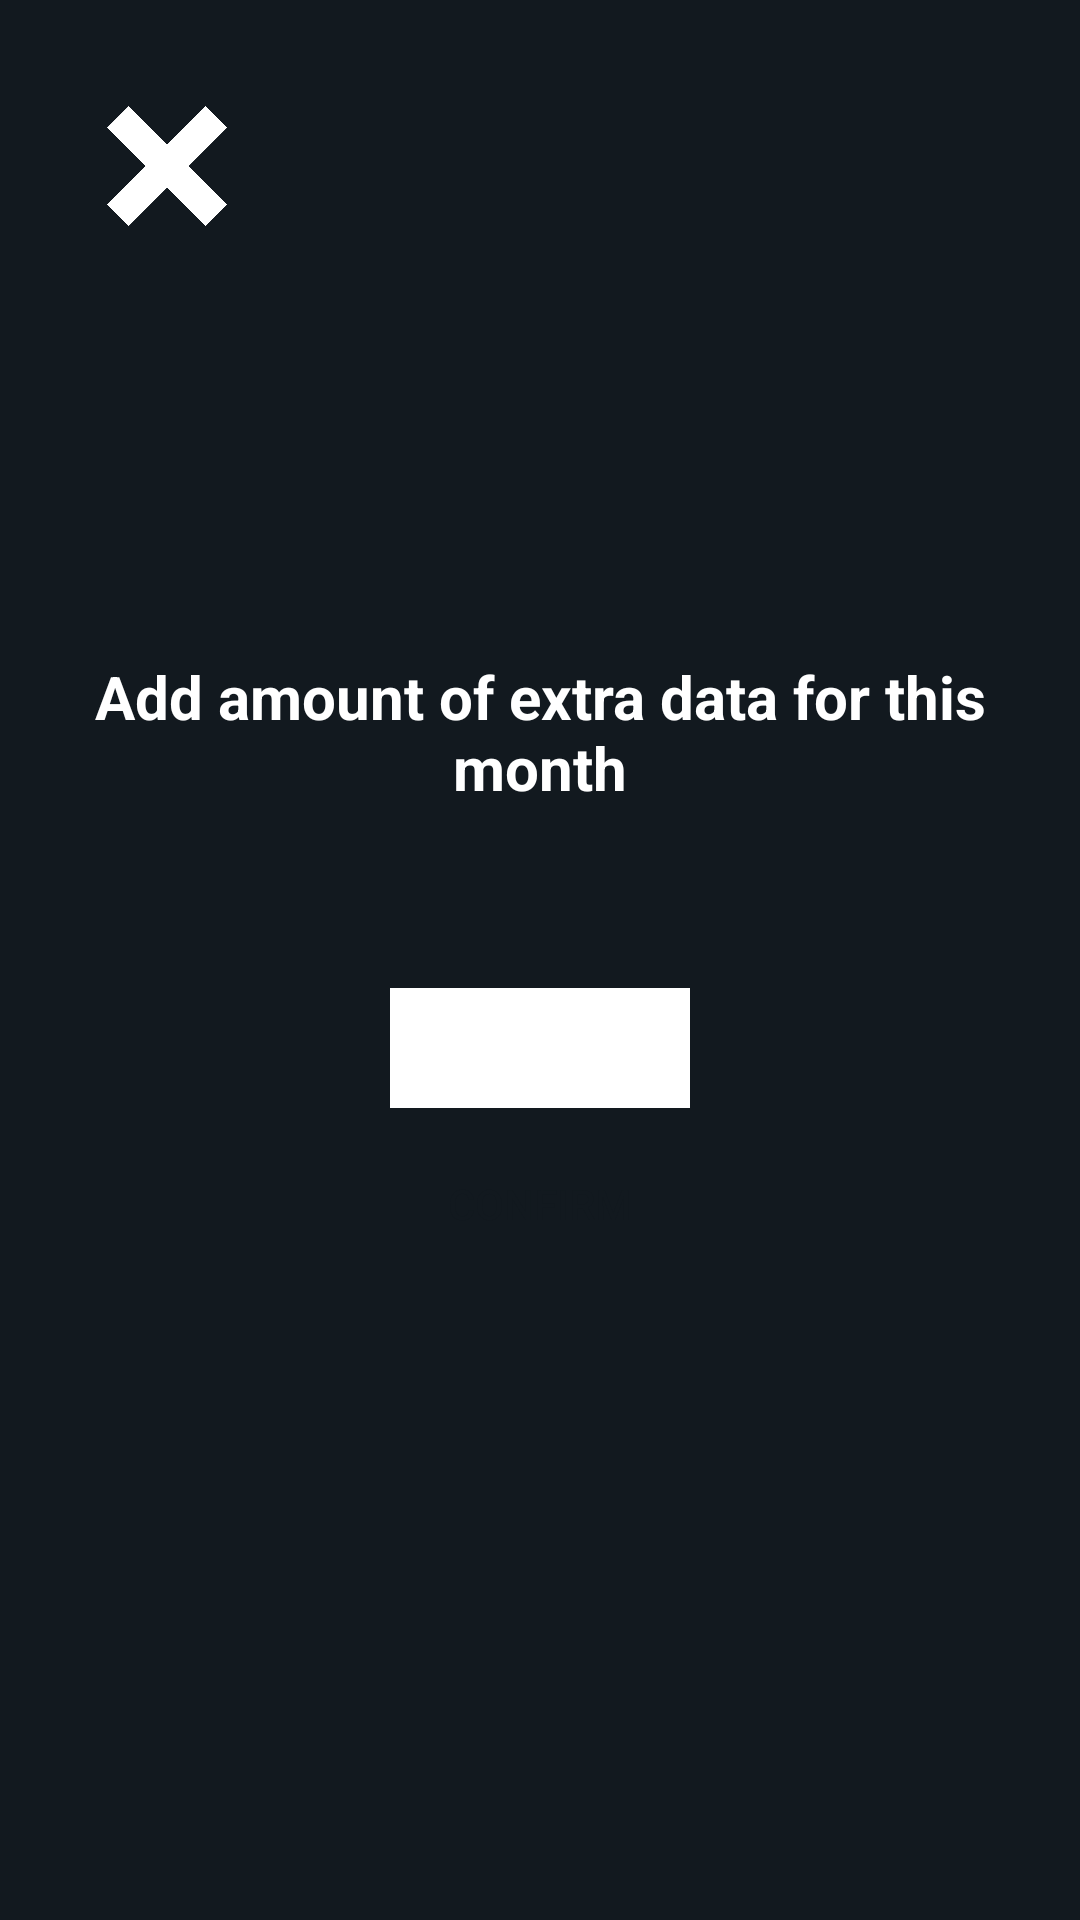

Screen size 1080*1920. Icon name, then its center in pixels as [x,y]:
close: [167,166]
